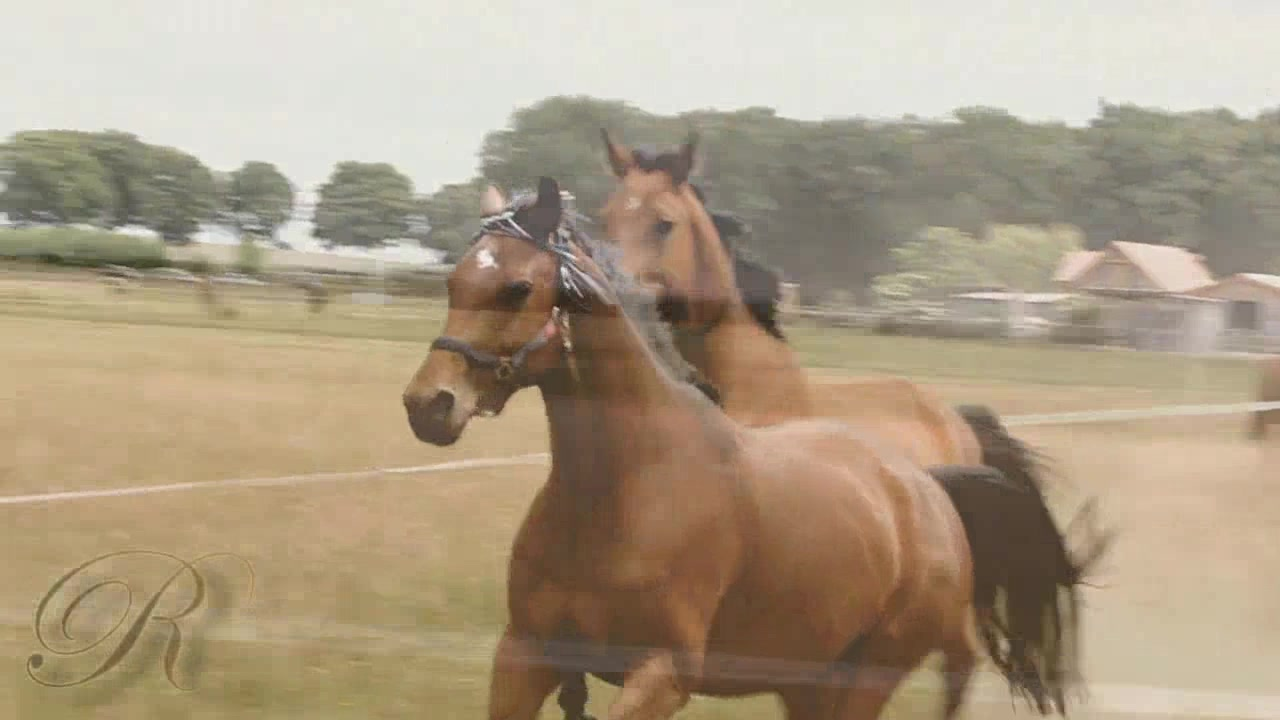horse: (397, 181, 1075, 720), (587, 124, 1048, 521)
